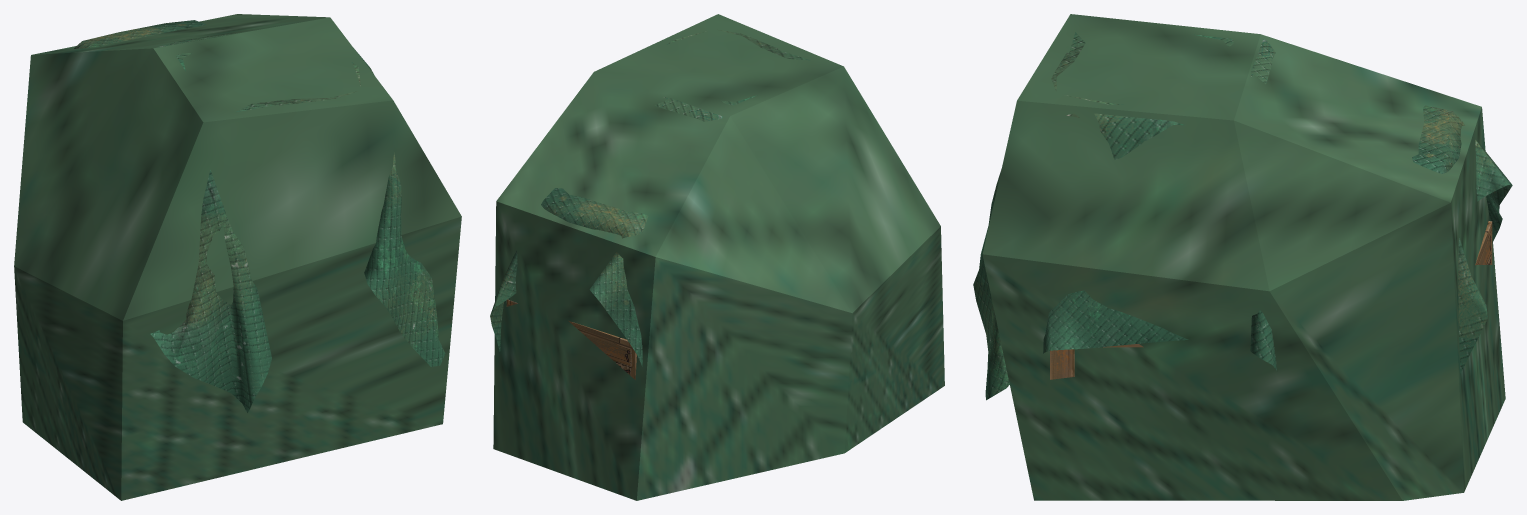
The model's file is crate_stack03.fbx.
3 renders of one model, left to right at view 1: azimuth 30°, elevation 25°; view 2: azimuth 150°, elevation 25°; view 3: azimuth 270°, elevation 25°, orthographic. The views are drawn at different scales.
Parts seen in each view (by area): view 1: crate_stack03_COL, crate_stack03; view 2: crate_stack03_COL, crate_stack03; view 3: crate_stack03_COL, crate_stack03.
Part boxes in pixels (x1,y1,x2,y2): crate_stack03_COL: (14, 14, 461, 500); crate_stack03: (74, 20, 445, 412); crate_stack03_COL: (493, 14, 944, 500); crate_stack03: (490, 29, 809, 379); crate_stack03_COL: (982, 14, 1505, 500); crate_stack03: (973, 32, 1512, 400).
Size of the model in its own units: 2.15 by 2 by 2.64.
